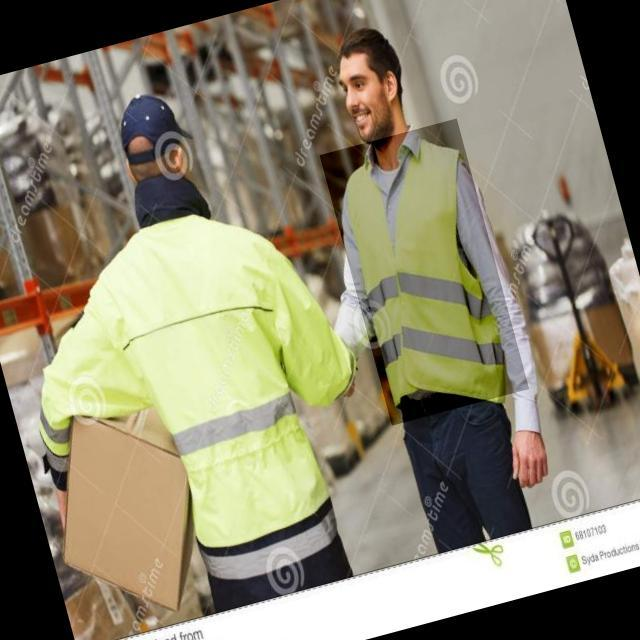Person: (28, 74, 316, 640), (318, 4, 581, 578)
Safety Vest: (319, 119, 529, 426)
bare-arms: (505, 422, 564, 507)
no-helmet: (113, 84, 192, 152), (330, 16, 405, 75)
